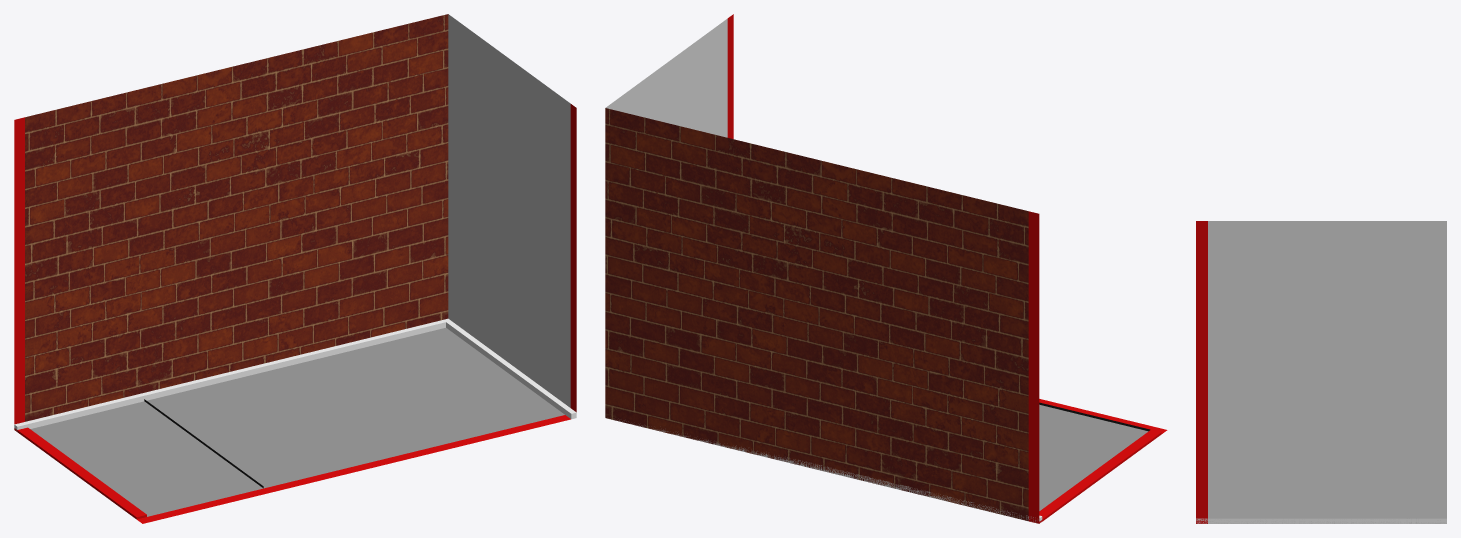
The model's file is jazzRoom.glb.
3 views of the same model, side by side, from view 1: azimuth 30°, elevation 25°; view 2: azimuth 150°, elevation 25°; view 3: azimuth 270°, elevation 25° (orthographic). The views are drawn at different scales.
Bounding box in the file's own units: 4.1 × 2.8 × 2.1.
6 materials, 1 textured.
